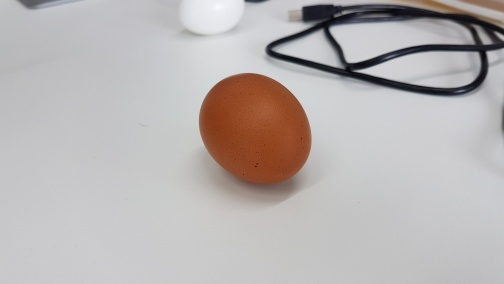egg: (198, 72, 314, 187), (172, 1, 248, 37)
